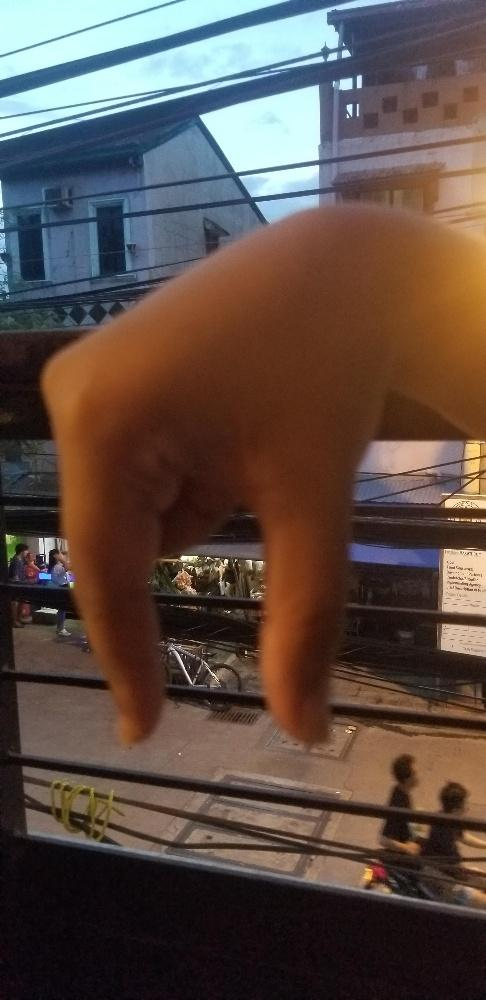q: (35, 201, 392, 740)
